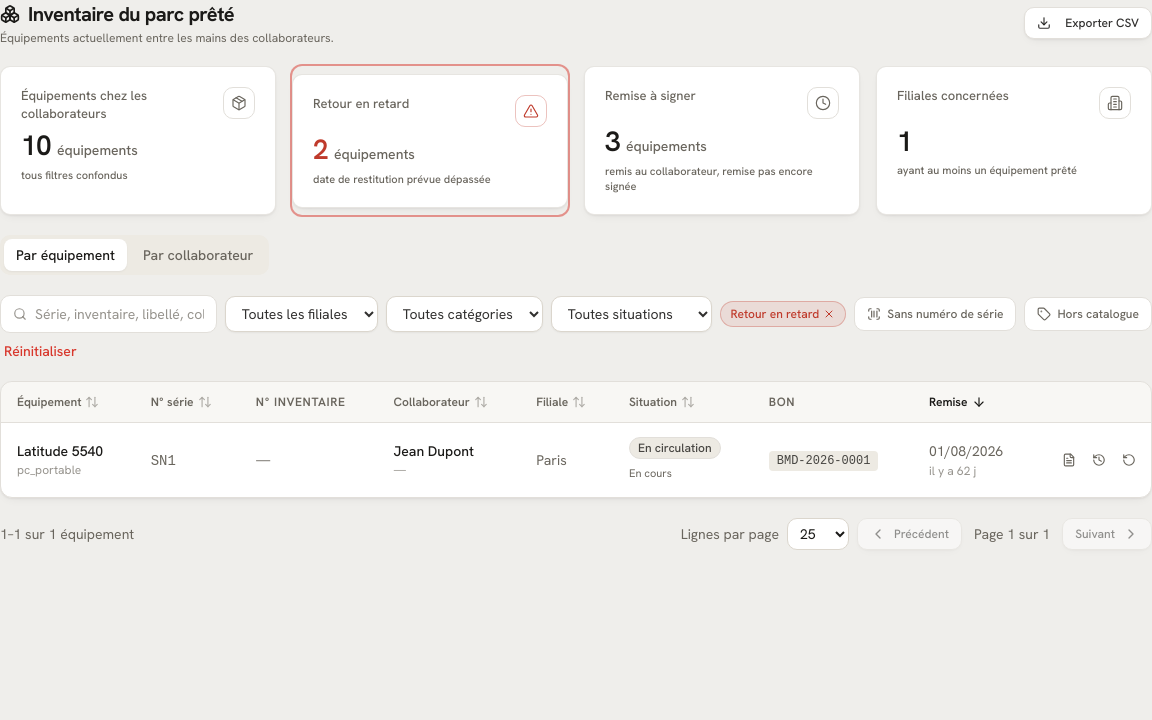
InventairePage › avant l’export, annonce le nombre d’équipements et les filtres actifs
Check: the text "Jean Dupont" is shown, box [394, 442, 474, 460]
Click the button "Exporter CSV".
click(1088, 23)  # box [1024, 7, 1151, 39]
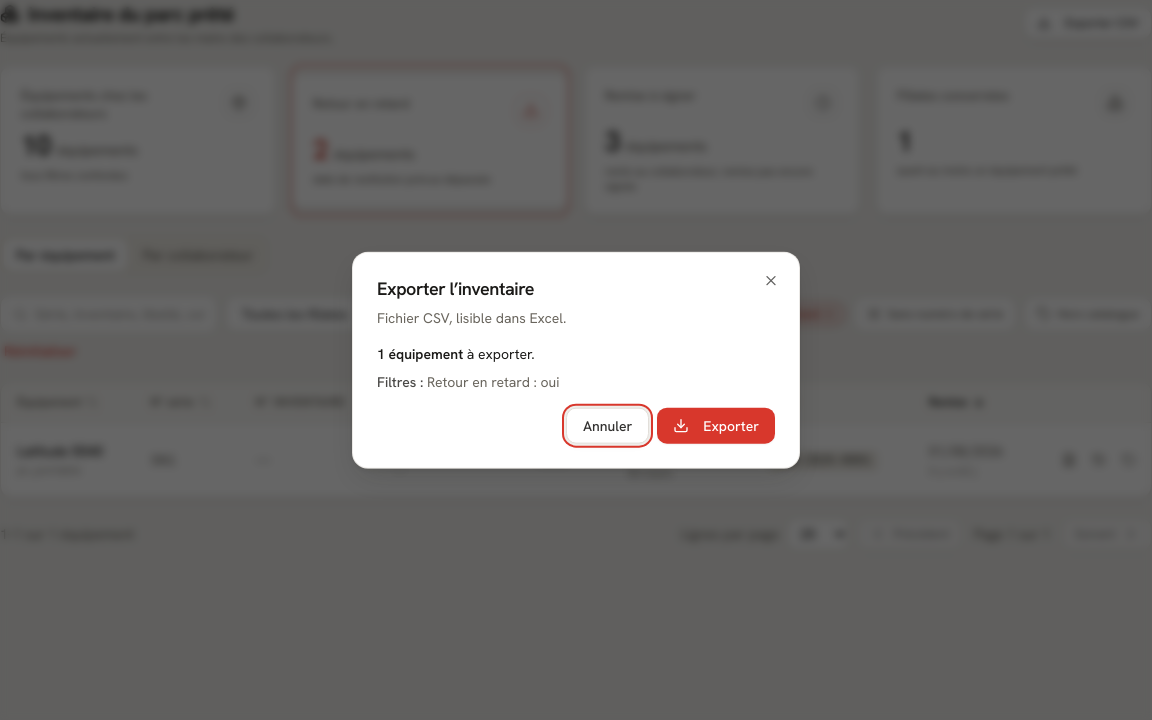
Check: the dialog shows "1 équipement à exporter.", box [352, 252, 800, 468]
